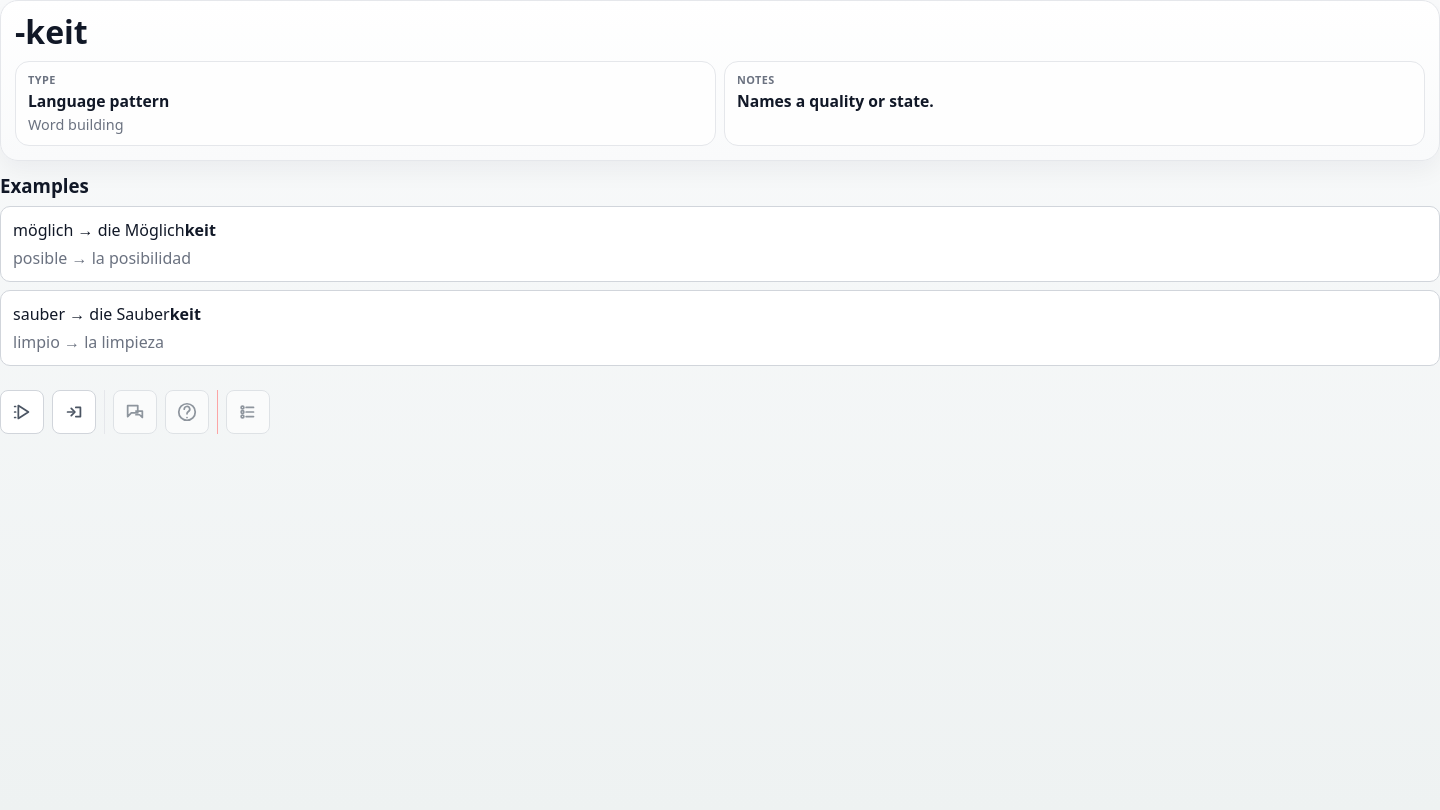
Test: reports unknown evaluation unregistered without substitution
The image size is (1440, 810).
Click the button named "Open testing" at x=74, y=412, box [52,390,96,434]
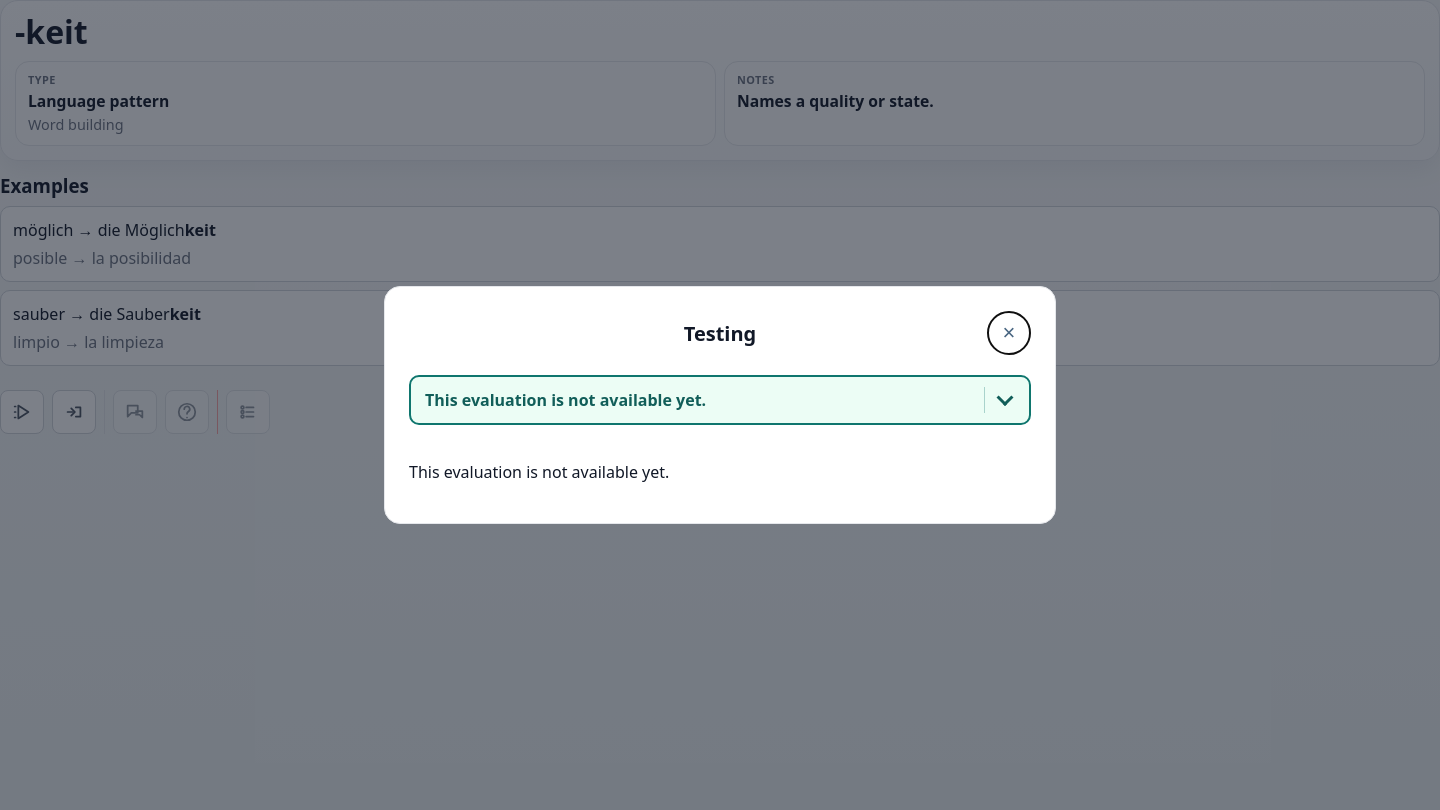
Expected: the message reads "This evaluation is not available yet.", [409,461,669,483]
